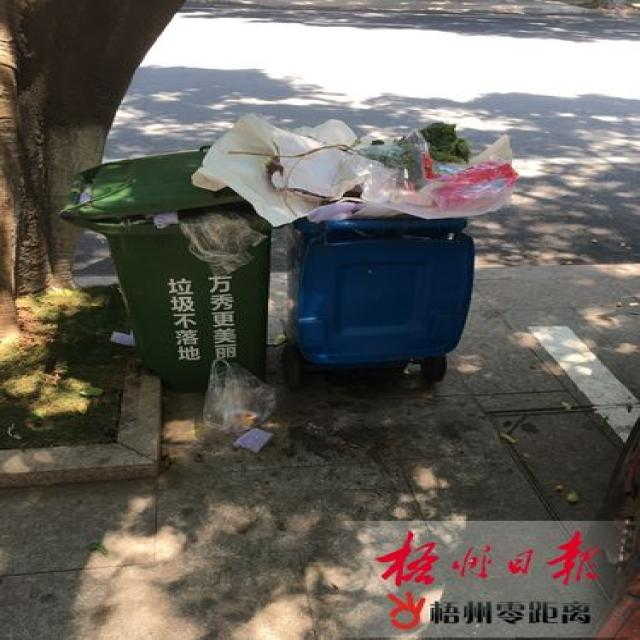garbage: (202, 360, 278, 450)
overflow: (191, 112, 517, 364), (58, 146, 270, 379)
